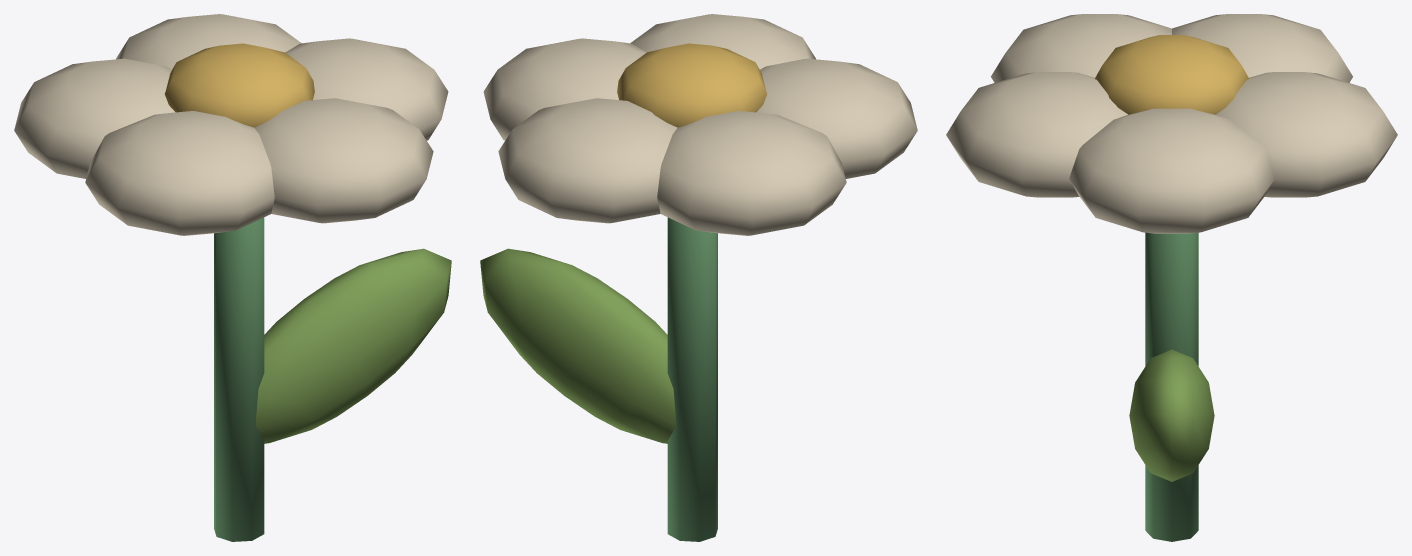
File: flower.glb
The picture shows the model from 3 angles, left to right: view 1: azimuth 30°, elevation 25°; view 2: azimuth 150°, elevation 25°; view 3: azimuth 270°, elevation 25°; orthographic projection.
Visible parts, largest first — view 1: body; view 2: body; view 3: body.
Boxes of the visible parts, box(x1,y1,x2,y2) form: body: box(14, 14, 451, 541); body: box(480, 14, 917, 541); body: box(946, 14, 1397, 541).
Bounding box in the file's own units: 0.4786 × 0.565 × 0.4773.
